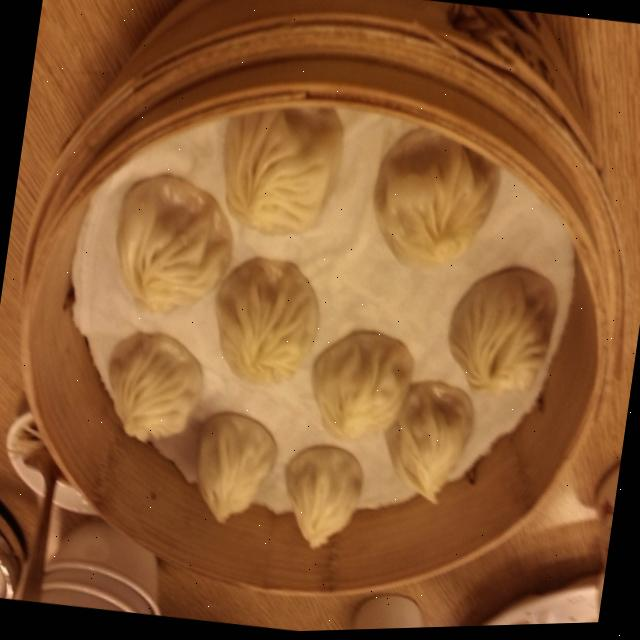带馅早点: (19, 30, 617, 626)
